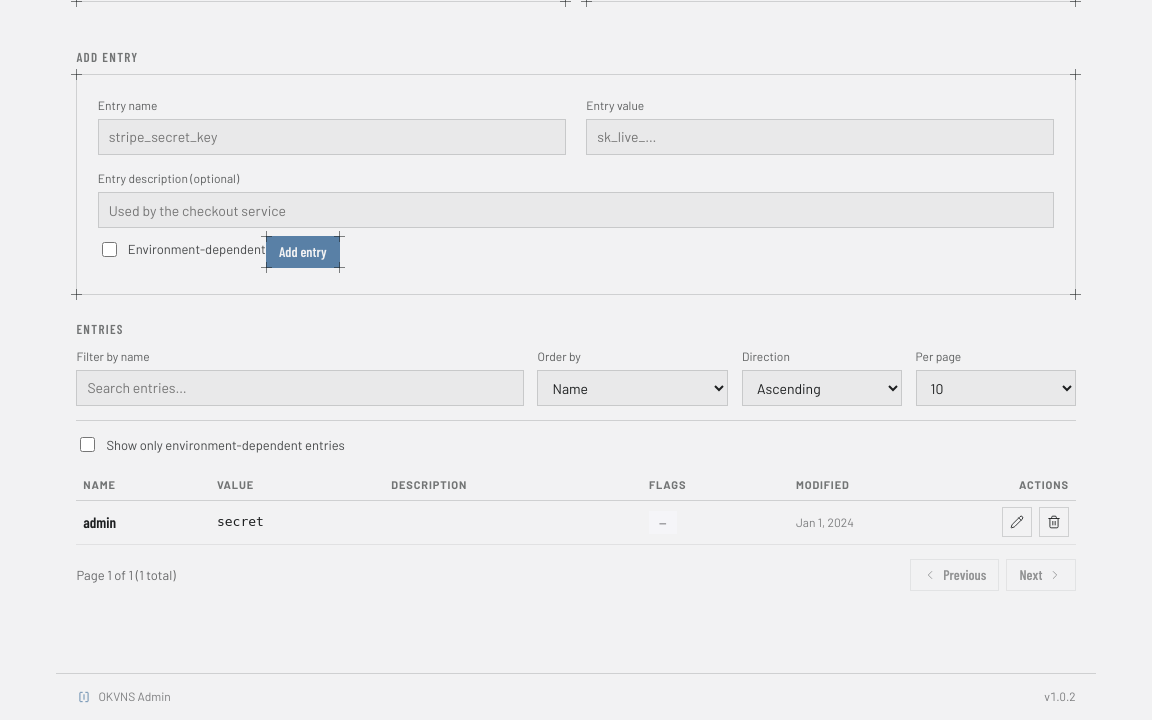
NamespaceDetailPage › updates an entry value through the edit dialog
(page scrolled)
Click the button named "Edit entry admin" at point(1017, 522), box [1002, 507, 1032, 537]
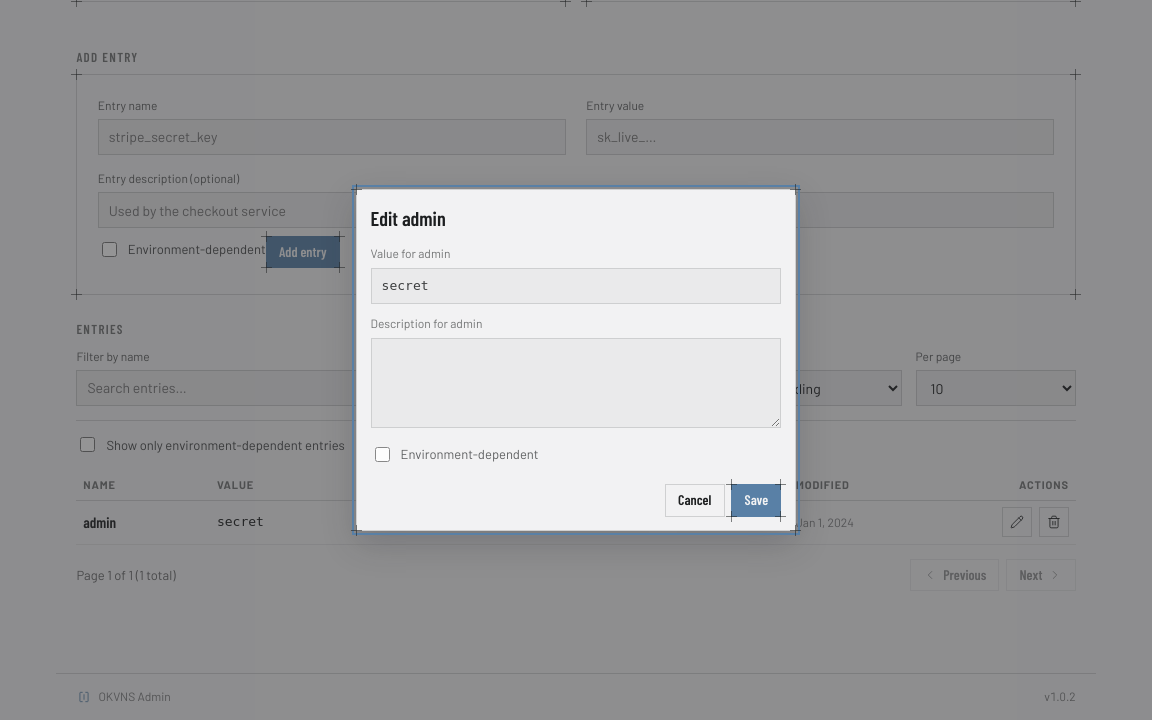
Replace the text in the field labelled "Value for admin" with "rotated" at point(576, 286), box [371, 268, 781, 304]
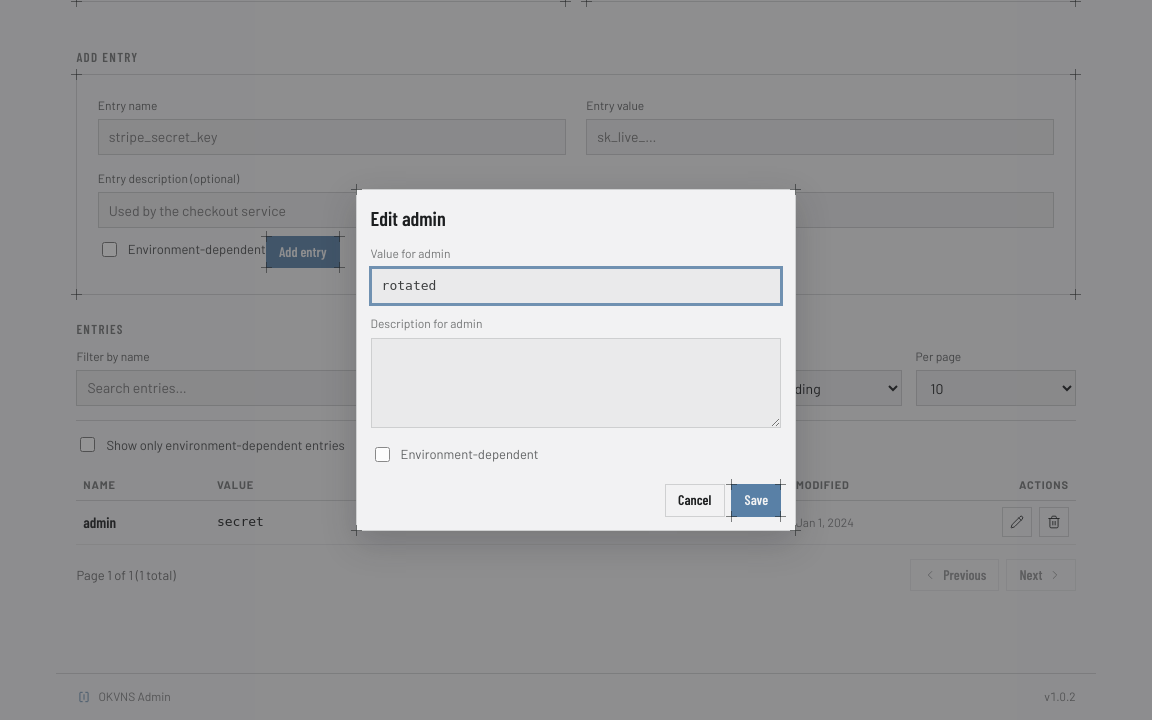
Click the button "Save" at point(756, 501), box [731, 484, 781, 517]
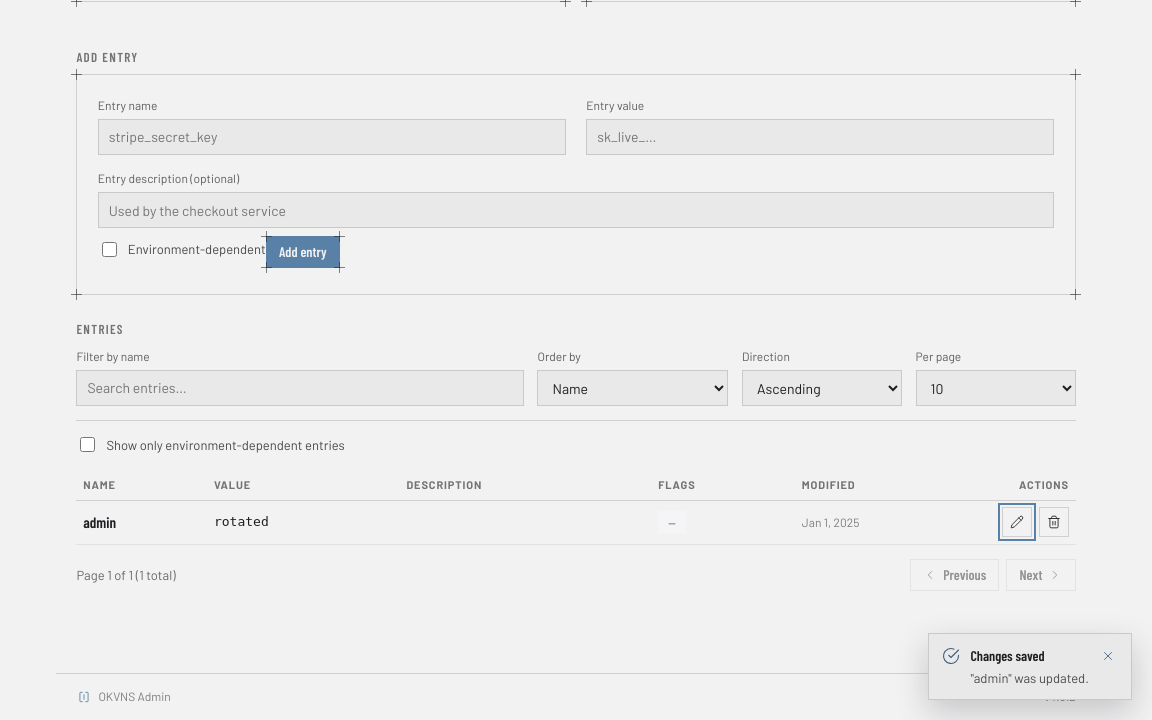
Expected: the text "rotated" is shown, [207, 500, 400, 545]
